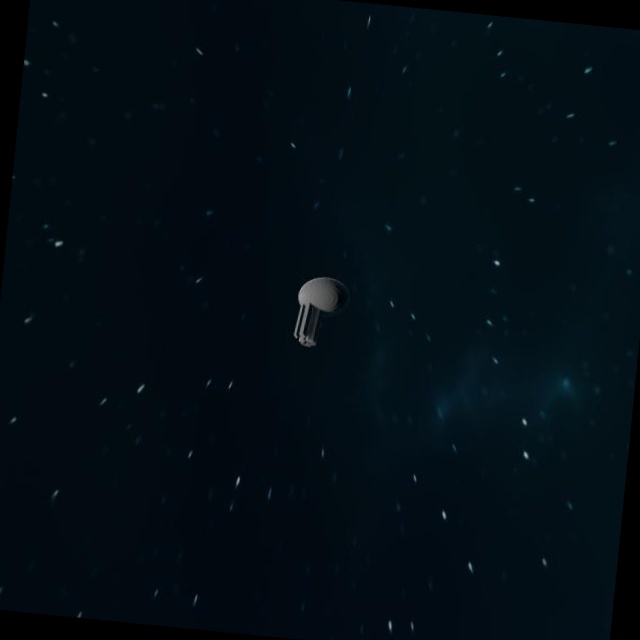large_debris: (292, 260, 349, 347)
